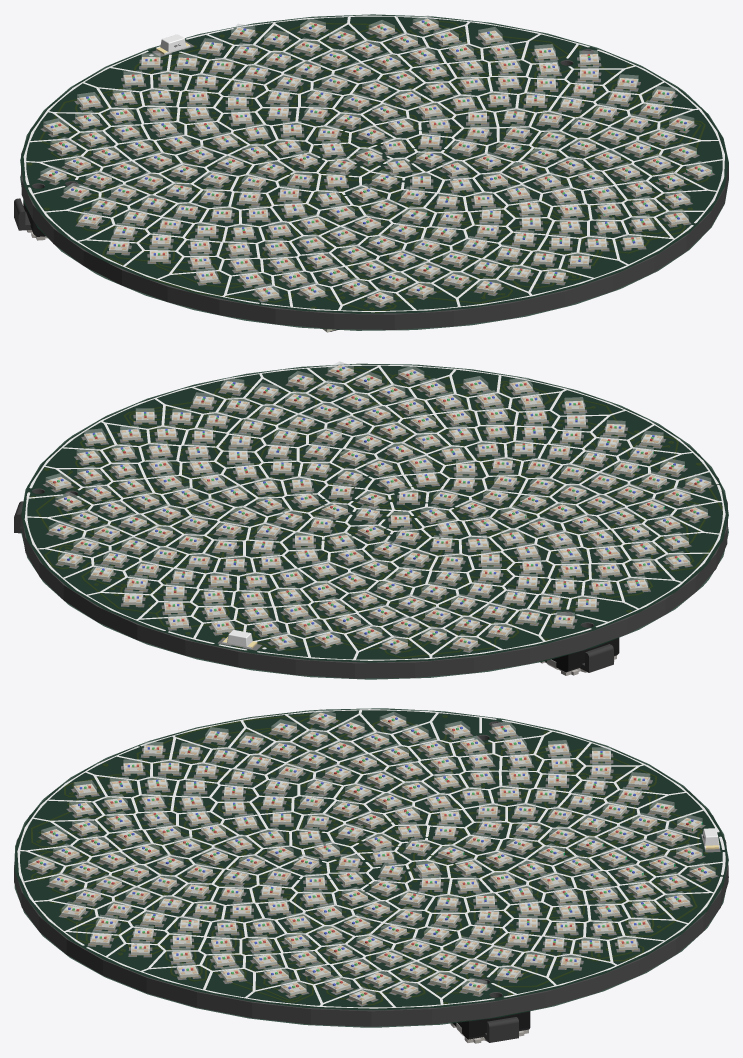
Rendered from board.glb.
The picture shows the model from 3 angles, top to bottom: view 1: azimuth 30°, elevation 25°; view 2: azimuth 150°, elevation 25°; view 3: azimuth 270°, elevation 25°; orthographic projection.
Parts seen in each view (by area): view 1: round-pendant_soldermask (×2), round-pendant_PCB, round-pendant_silkscreen, round-pendant_pad, round-pendant_copper, SW-SMD_EVQP7C01P-L3.6-W3.5-H1.4-P3.6-LS4.7; view 2: round-pendant_soldermask (×2), round-pendant_PCB, round-pendant_silkscreen, round-pendant_pad, round-pendant_copper, SW-SMD_EVQP7C01P-L3.6-W3.5-H1.4-P3.6-LS4.7; view 3: round-pendant_soldermask (×2), round-pendant_PCB, round-pendant_silkscreen, round-pendant_pad, round-pendant_copper, SW-SMD_EVQP7C01P-L3.6-W3.5-H1.4-P3.6-LS4.7.
Boxes of the visible parts, bbox=[...] form: round-pendant_soldermask (×2): bbox=[20, 14, 728, 330]; round-pendant_PCB: bbox=[21, 17, 728, 329]; round-pendant_silkscreen: bbox=[23, 15, 724, 312]; round-pendant_pad: bbox=[37, 26, 714, 307]; round-pendant_copper: bbox=[27, 21, 708, 312]; SW-SMD_EVQP7C01P-L3.6-W3.5-H1.4-P3.6-LS4.7: bbox=[14, 198, 47, 240]; round-pendant_soldermask (×2): bbox=[21, 363, 728, 679]; round-pendant_PCB: bbox=[21, 366, 727, 678]; round-pendant_silkscreen: bbox=[24, 364, 725, 660]; round-pendant_pad: bbox=[43, 372, 713, 654]; round-pendant_copper: bbox=[36, 367, 721, 657]; SW-SMD_EVQP7C01P-L3.6-W3.5-H1.4-P3.6-LS4.7: bbox=[540, 638, 619, 675]; round-pendant_soldermask (×2): bbox=[14, 708, 728, 1027]; round-pendant_PCB: bbox=[14, 711, 728, 1026]; round-pendant_silkscreen: bbox=[17, 709, 725, 1008]; round-pendant_pad: bbox=[25, 720, 720, 1006]; round-pendant_copper: bbox=[31, 715, 719, 1004]; SW-SMD_EVQP7C01P-L3.6-W3.5-H1.4-P3.6-LS4.7: bbox=[450, 1011, 530, 1043].
Size of the model in its own units: 0.038 by 0.00302 by 0.038.
